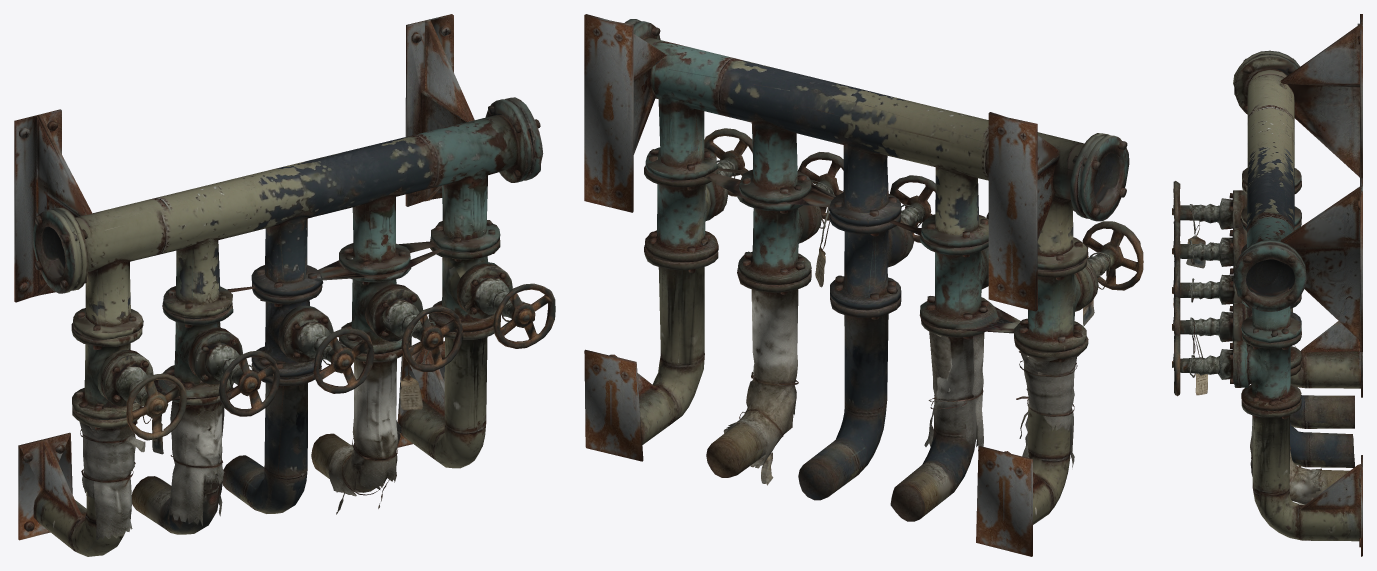
The model's file is silo81_manifold.glb.
The picture shows the model from 3 angles, left to right: view 1: azimuth 30°, elevation 25°; view 2: azimuth 150°, elevation 25°; view 3: azimuth 270°, elevation 25°; orthographic projection. The views are drawn at different scales.
Size of the model in its own units: 0.9565 by 0.8521 by 0.3872.
Materials: 1 (1 with a texture image).
